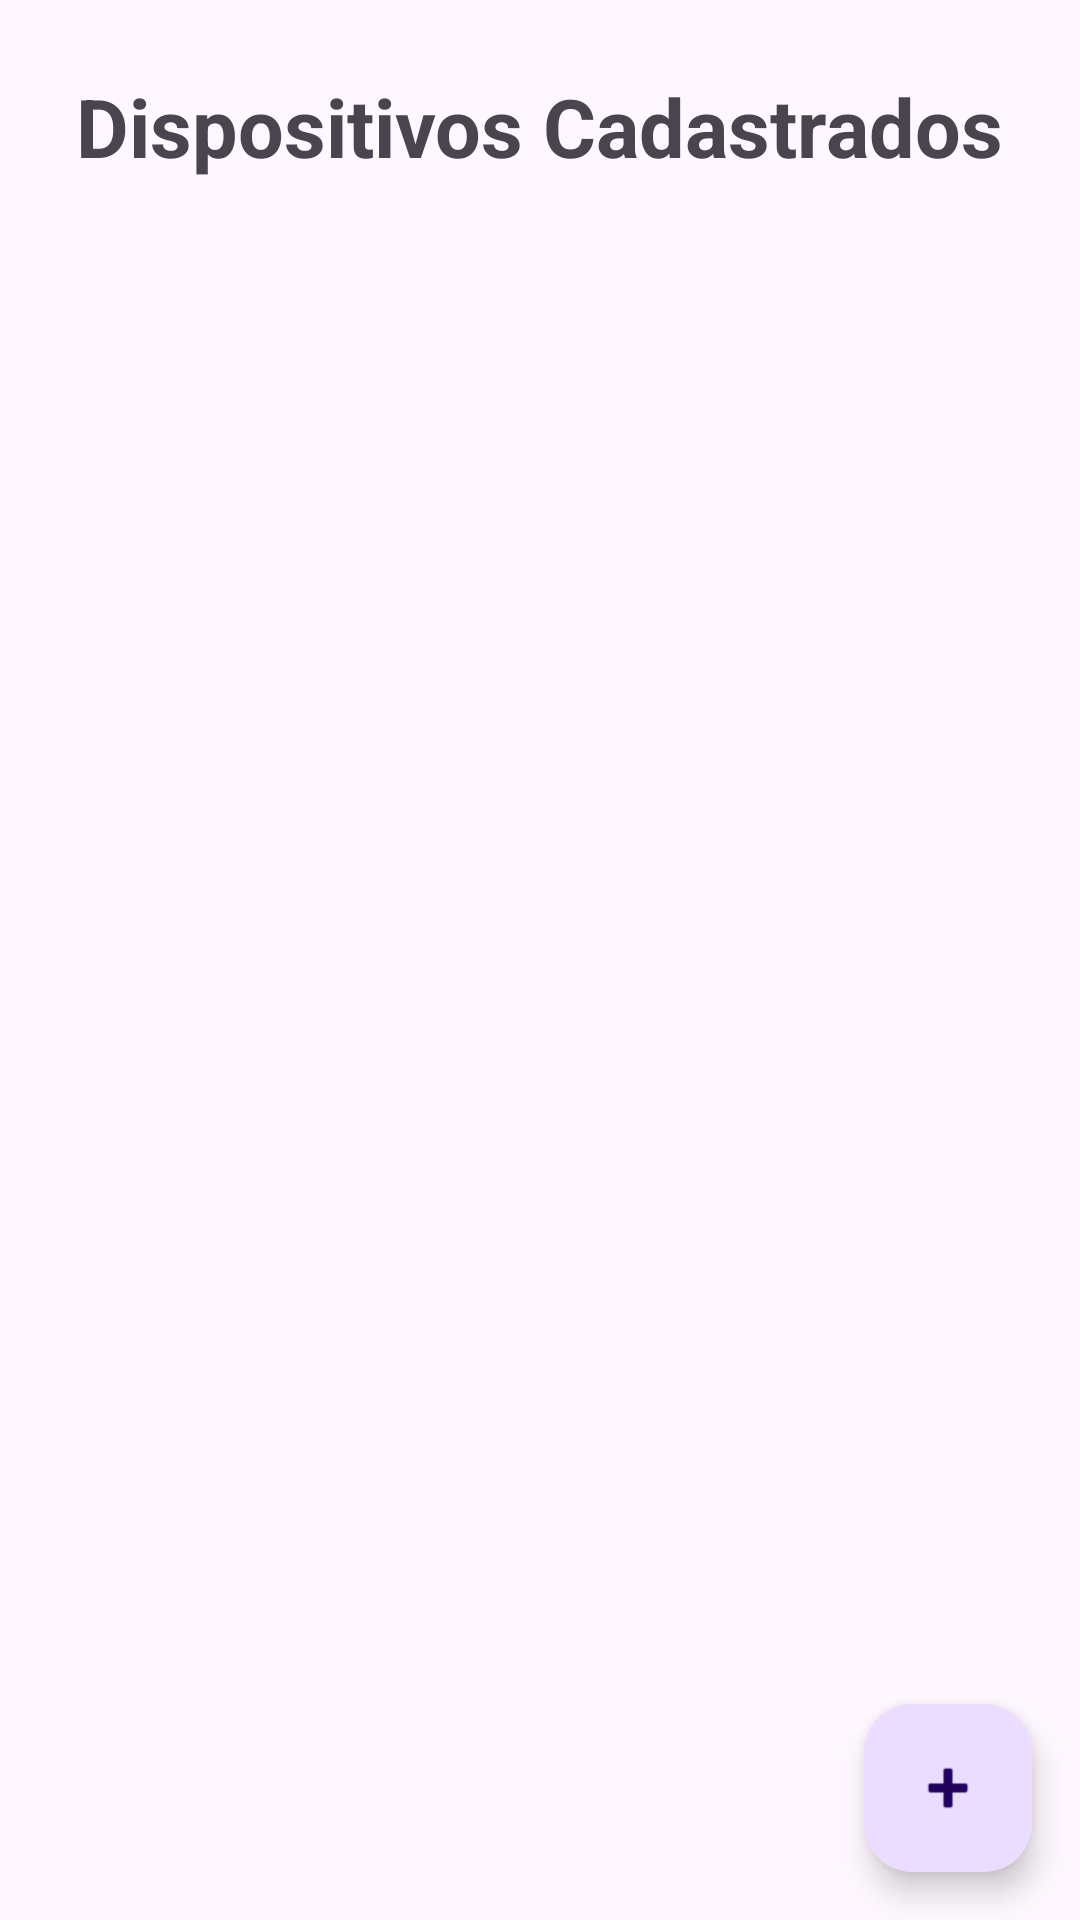

Named icons in this screenshot (1080w x 1920h) and their bounding boxes, [left=x1, top=y1, right=x2, bottom=y2]:
Botão de criar dispositivo: [left=864, top=1704, right=1032, bottom=1872]
